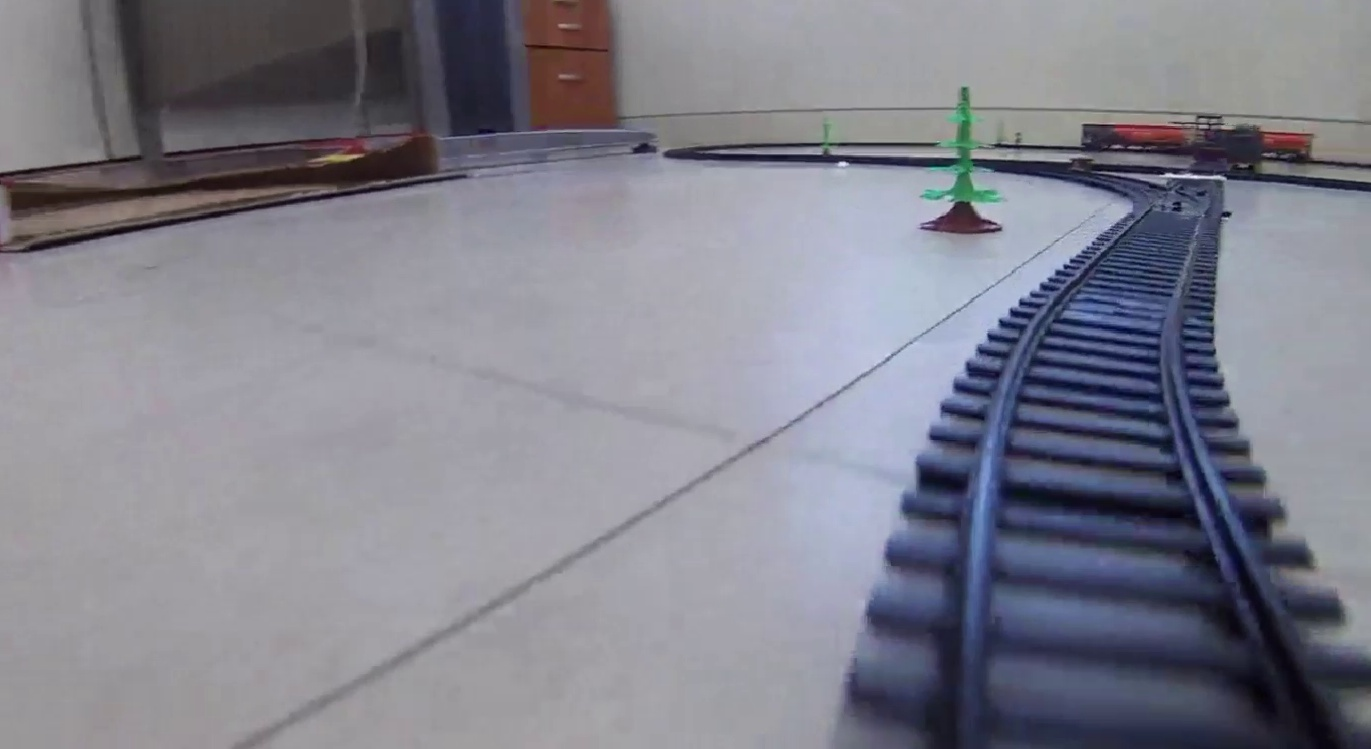tree: (915, 84, 1003, 233)
